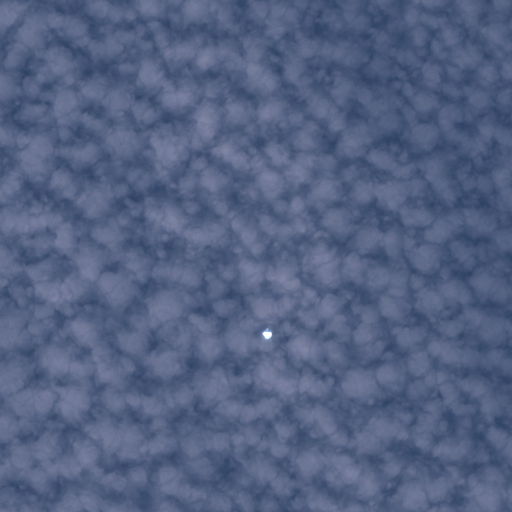Iceberg: (262, 328, 271, 338)
